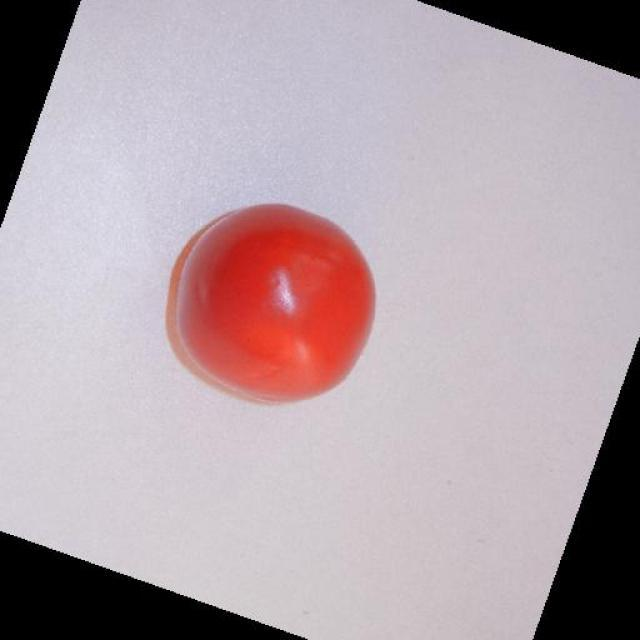Fresh Tomato: (134, 199, 404, 407)
